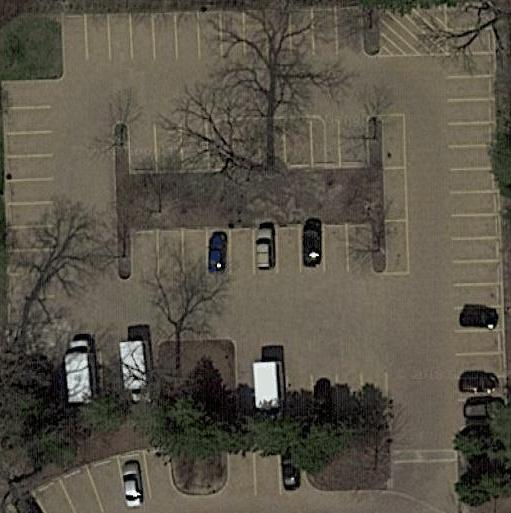parkingspot: (442, 0, 510, 431), (59, 5, 367, 66), (0, 79, 60, 357), (126, 111, 371, 173), (130, 223, 375, 281), (28, 444, 177, 513), (234, 368, 390, 429), (60, 335, 161, 410), (225, 444, 318, 499), (380, 113, 411, 275)
